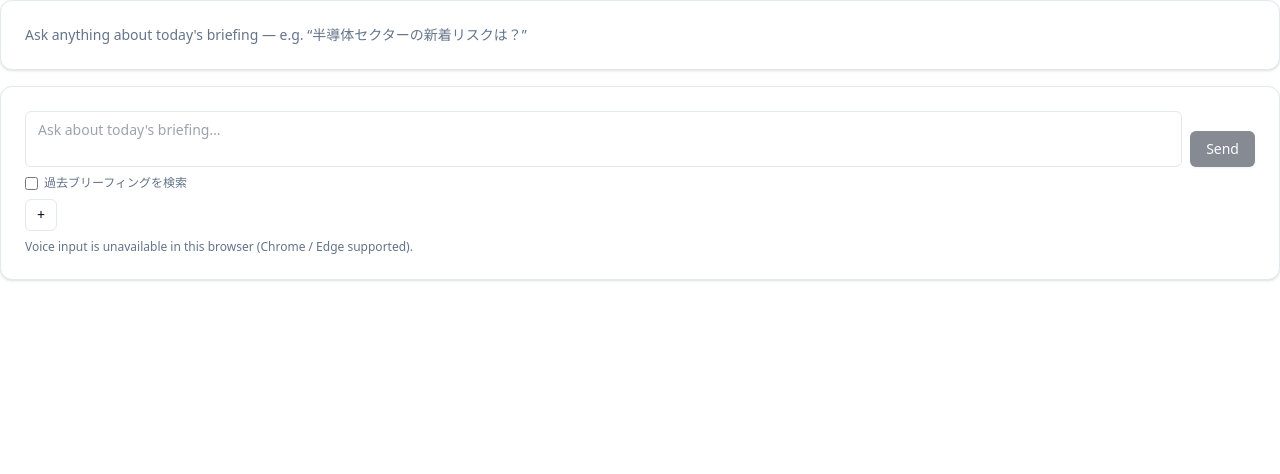
ChatForm › POSTs today's date + question and streams assistant output
Type "what's new?" into the text box with test id "chat-input" at (604, 139), box [25,111,1182,167]
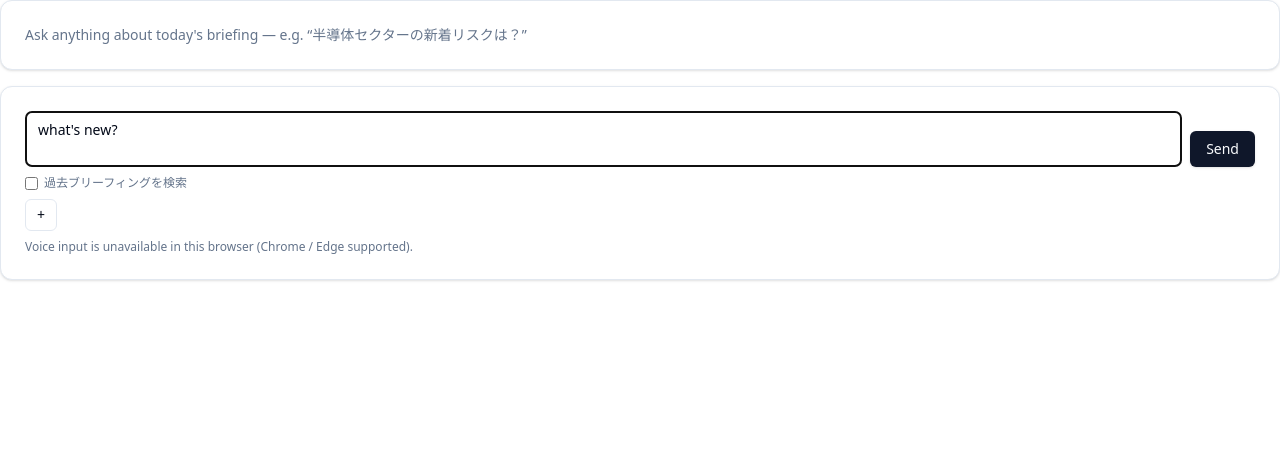
Click the button with test id "send-button" at (1223, 149), box [1190,131,1255,167]
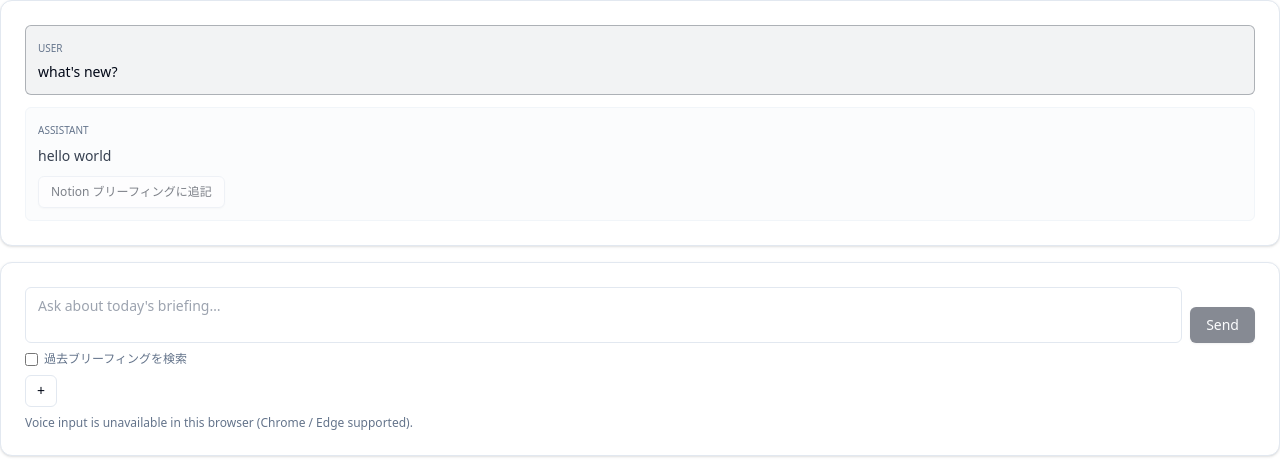
Check: the element with test id "chat-msg-assistant" shows "hello", box [38,146,111,165]
Check: the element with test id "chat-msg-assistant" shows "world", box [38,146,111,165]
Check: the element with test id "chat-msg-user" shows "what's new?", box [38,62,118,81]
